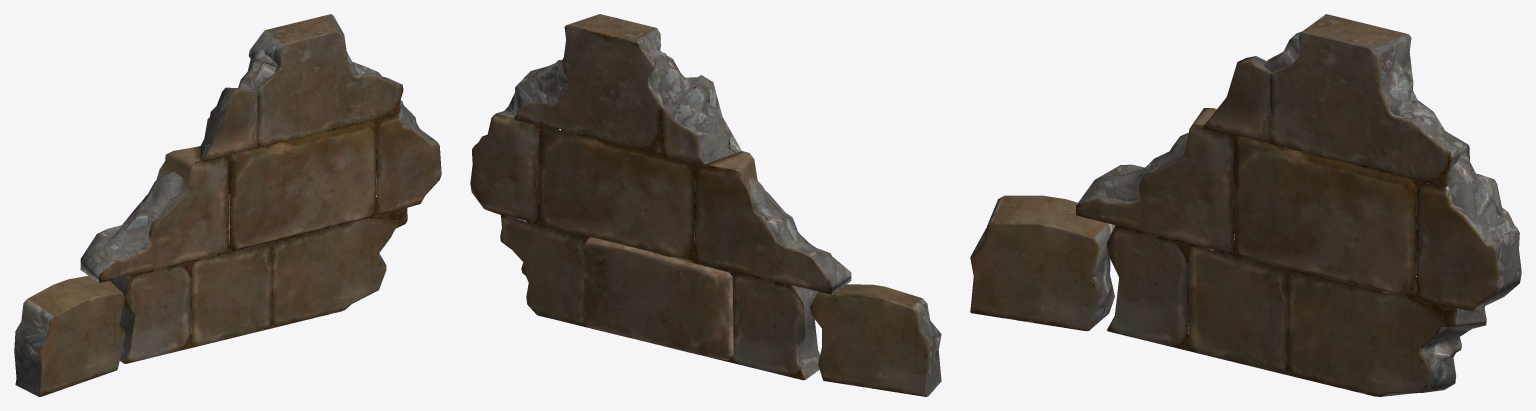
The picture shows the model from 3 angles, left to right: view 1: azimuth 30°, elevation 25°; view 2: azimuth 150°, elevation 25°; view 3: azimuth 330°, elevation 25°; orthographic projection. The views are drawn at different scales.
Parts seen in each view (by area): view 1: SM_Vault_5x4_Dmg_Wall_01_LOD0; view 2: SM_Vault_5x4_Dmg_Wall_01_LOD0; view 3: SM_Vault_5x4_Dmg_Wall_01_LOD0.
Boxes of the visible parts, left/top/right/bottom form: SM_Vault_5x4_Dmg_Wall_01_LOD0: left=14, top=14, right=441, bottom=396; SM_Vault_5x4_Dmg_Wall_01_LOD0: left=470, top=14, right=941, bottom=396; SM_Vault_5x4_Dmg_Wall_01_LOD0: left=970, top=14, right=1521, bottom=396.
Size of the model in its own units: 6.11 by 3.89 by 0.8964.
Materials: 3 (3 with a texture image).
